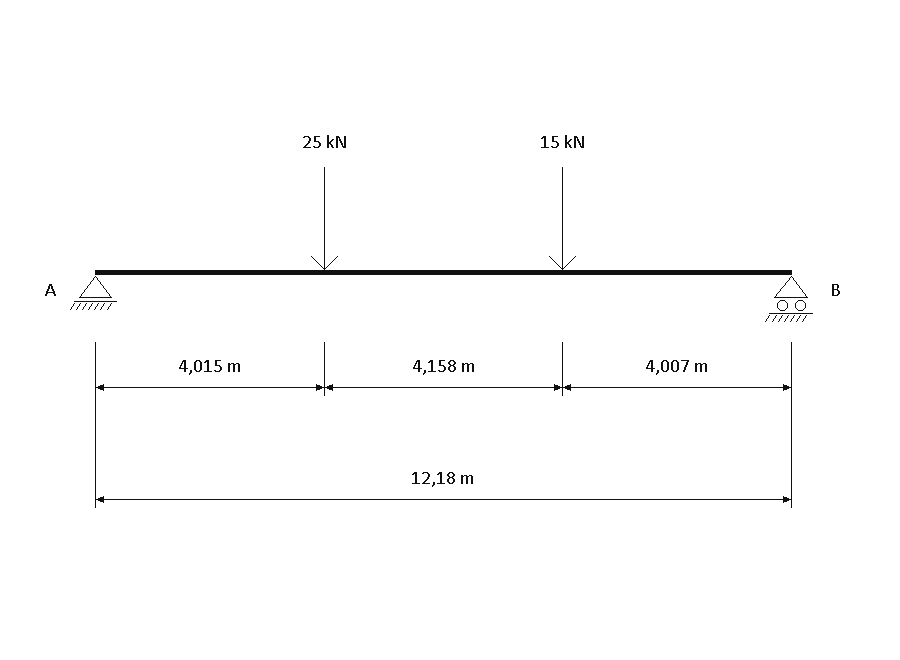pin_support: (70, 276, 117, 310)
point_load: (311, 167, 338, 270), (549, 167, 576, 270)
roller_support: (765, 276, 813, 322)
